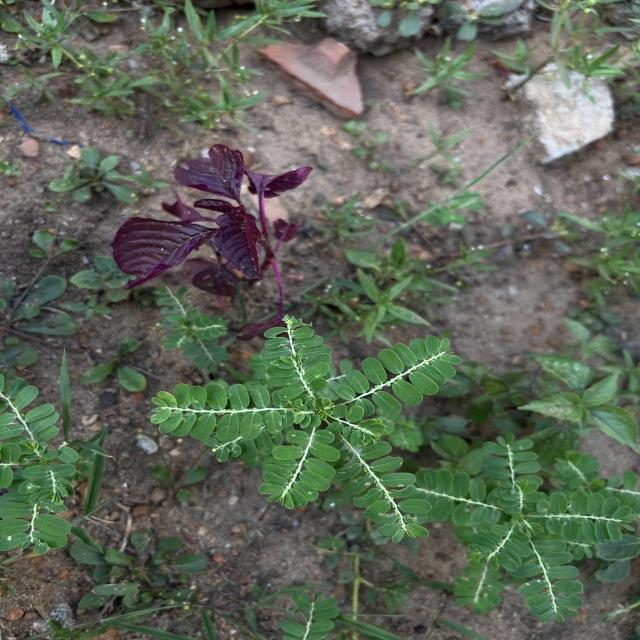Phyllanthus niruri: (333, 334, 467, 417), (334, 438, 432, 545), (142, 380, 298, 443), (258, 426, 340, 512), (258, 314, 334, 401), (517, 538, 586, 624), (535, 490, 639, 546), (482, 430, 546, 500), (467, 522, 531, 574)
